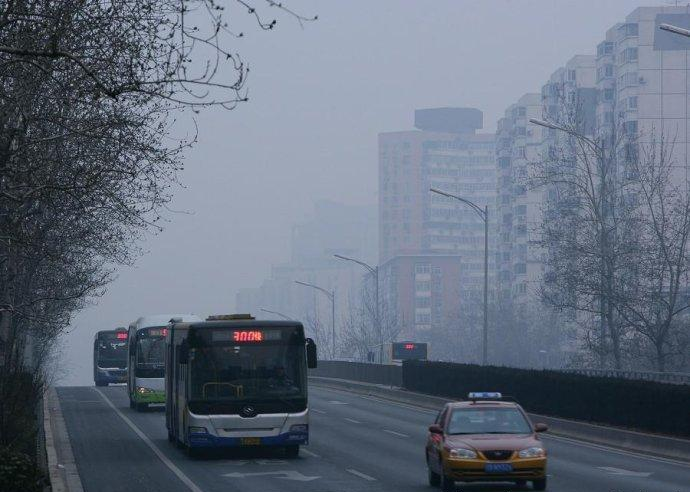bus: (164, 311, 322, 460), (124, 314, 214, 412), (93, 324, 144, 390), (366, 338, 429, 391)
car: (423, 389, 553, 492)
